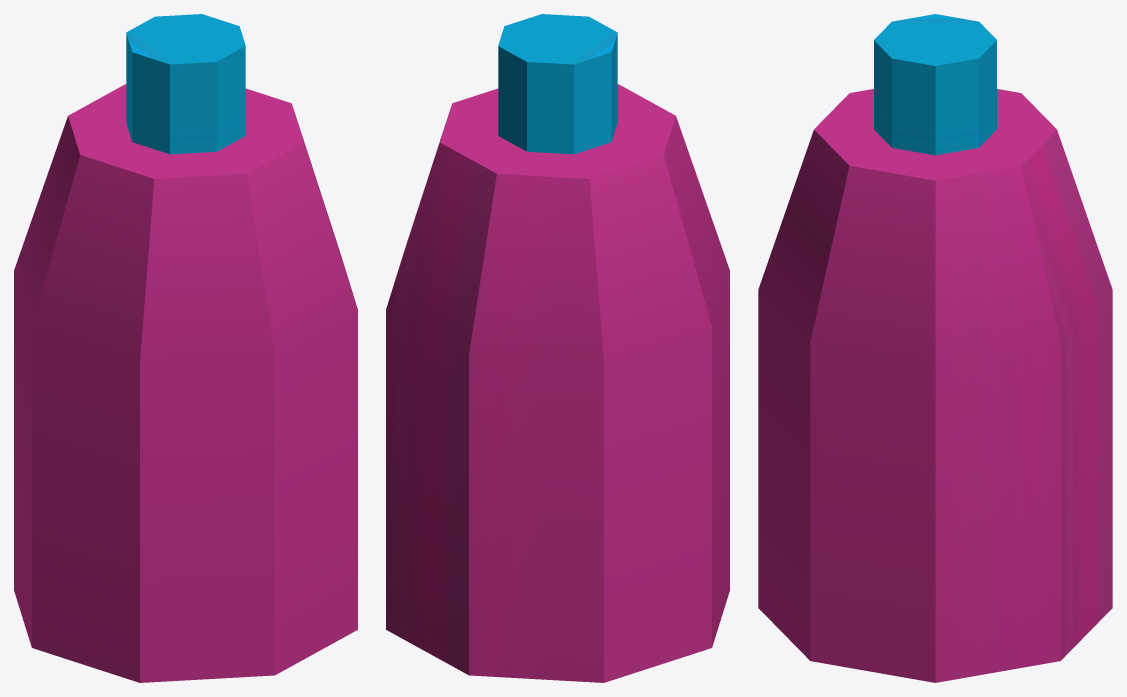
File: ShampooStaticMesh.fbx
3 views of the same model, side by side, from view 1: azimuth 30°, elevation 25°; view 2: azimuth 150°, elevation 25°; view 3: azimuth 270°, elevation 25° (orthographic).
Visible parts, largest first — view 1: shampoo; view 2: shampoo; view 3: shampoo.
Boxes of the visible parts, <box> form: shampoo: <box>14,14,357,682</box>; shampoo: <box>386,14,729,682</box>; shampoo: <box>758,14,1112,682</box>.
Bounding box in the file's own units: 0.6998 × 1.24 × 0.6998.
